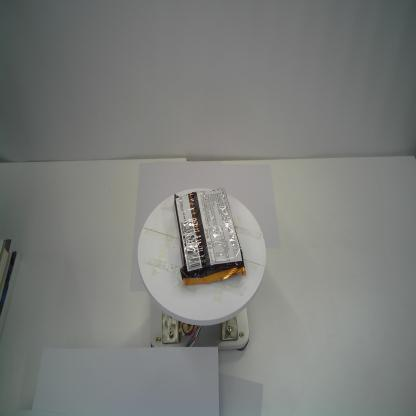Dessert: (174, 186, 247, 288)
